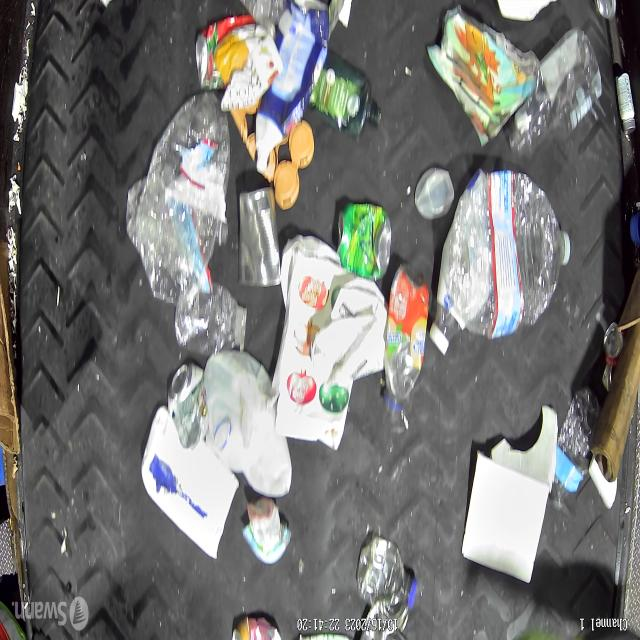can: (238, 184, 282, 290), (336, 200, 392, 280), (168, 361, 206, 451), (193, 25, 231, 92), (602, 323, 623, 392), (229, 614, 284, 639), (592, 1, 621, 20)
milk_jug: (203, 352, 293, 498)
non_white_jug: (256, 0, 330, 172)
plastic_bottle: (449, 170, 571, 345), (128, 95, 228, 296), (508, 31, 602, 158), (383, 268, 428, 417), (554, 383, 602, 498), (356, 534, 420, 620), (172, 284, 247, 354), (430, 264, 464, 357), (237, 0, 287, 29)
